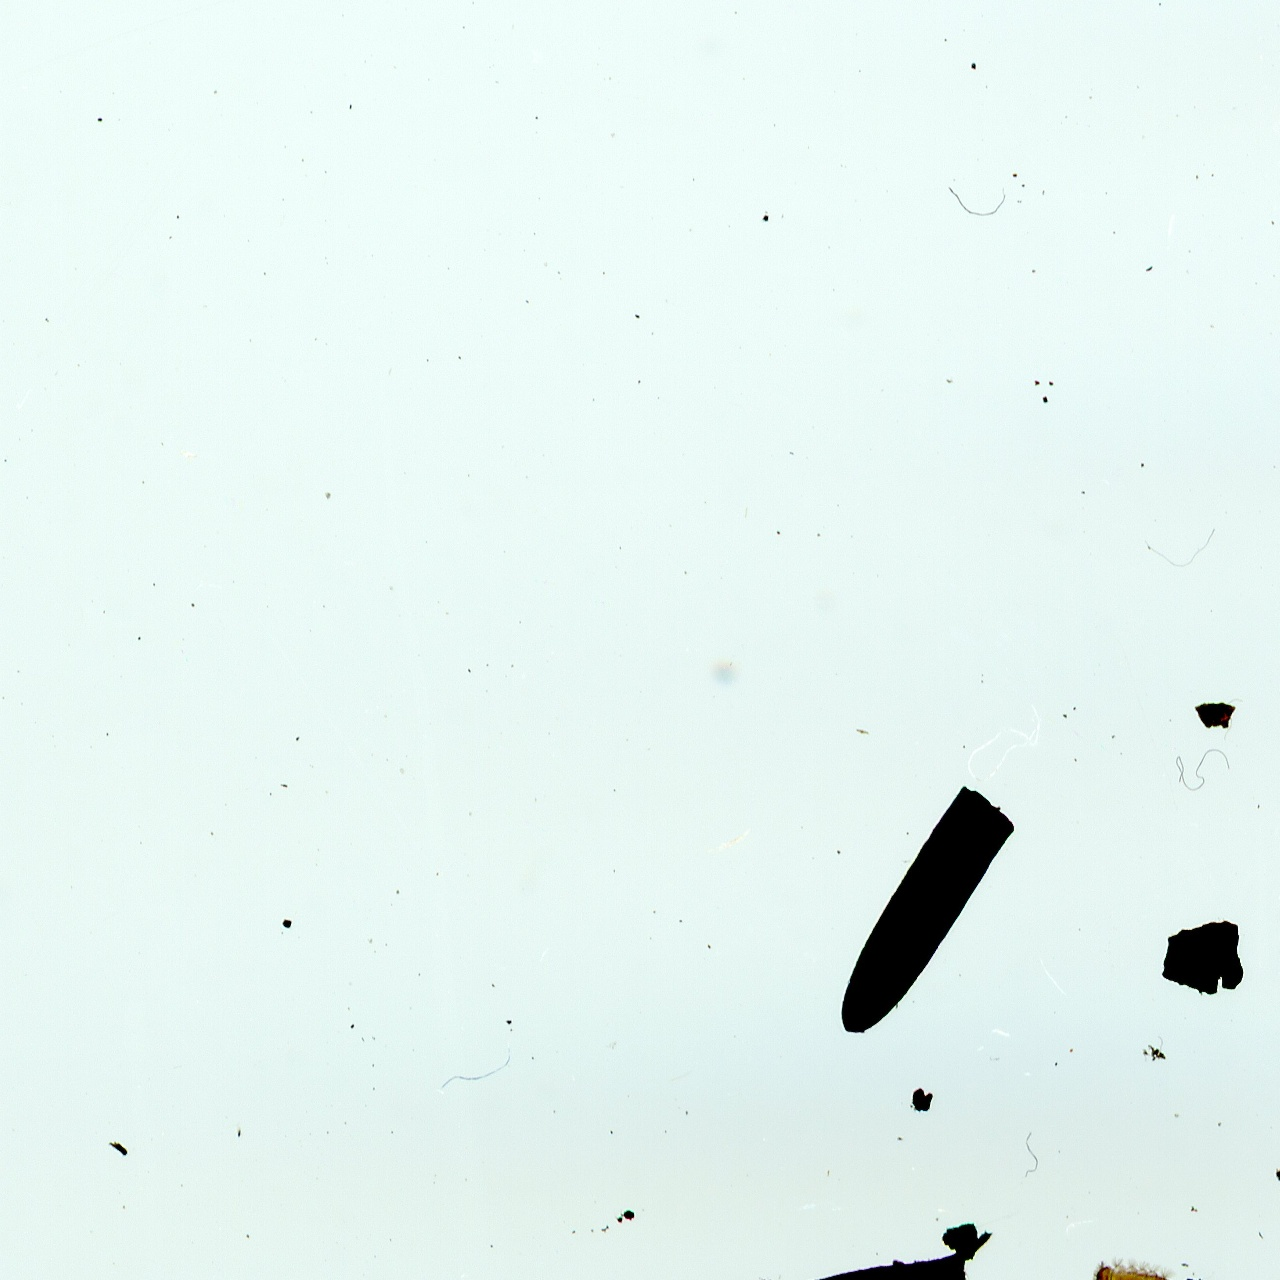arthropod: (1088, 1256, 1190, 1280)
